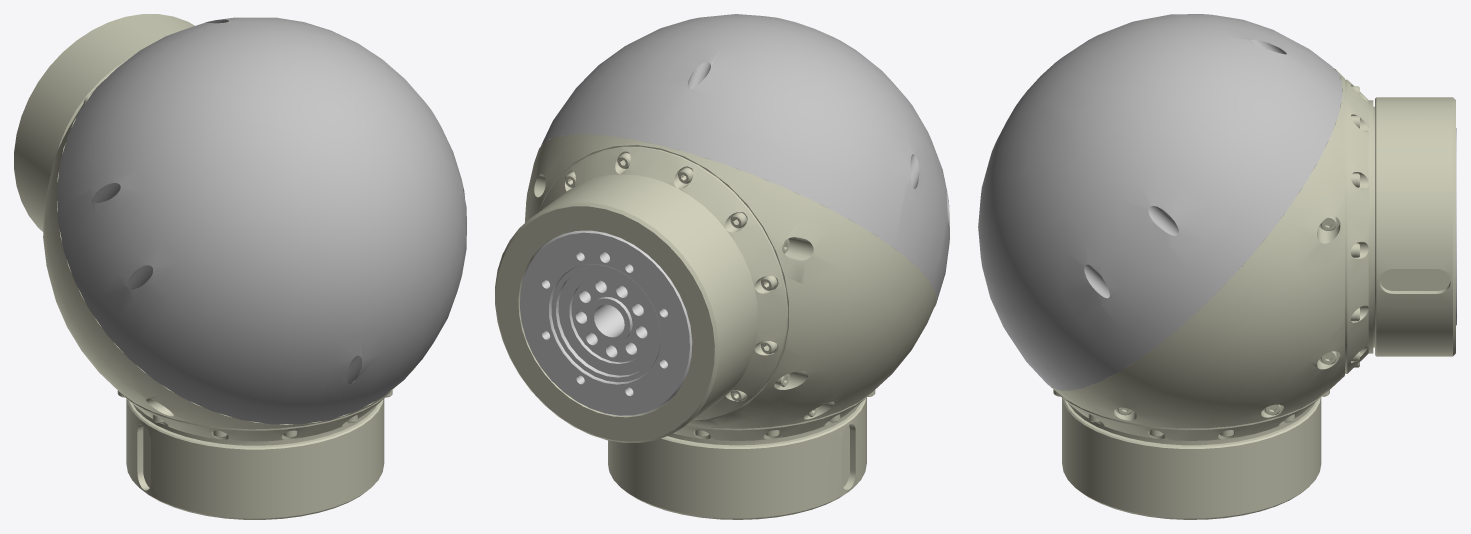
Rendered from LWA46_Link1.dae.
3 views of the same model, side by side, from view 1: azimuth 30°, elevation 25°; view 2: azimuth 150°, elevation 25°; view 3: azimuth 270°, elevation 25° (orthographic).
Visible parts, largest first — view 1: Link1; view 2: Link1; view 3: Link1.
Boxes of the visible parts, x1,y1,x2,y2 form: Link1: (14,14,466,519); Link1: (495,14,949,519); Link1: (978,14,1456,519).
Bounding box in the file's own units: 0.1449 × 0.1625 × 0.1625.
